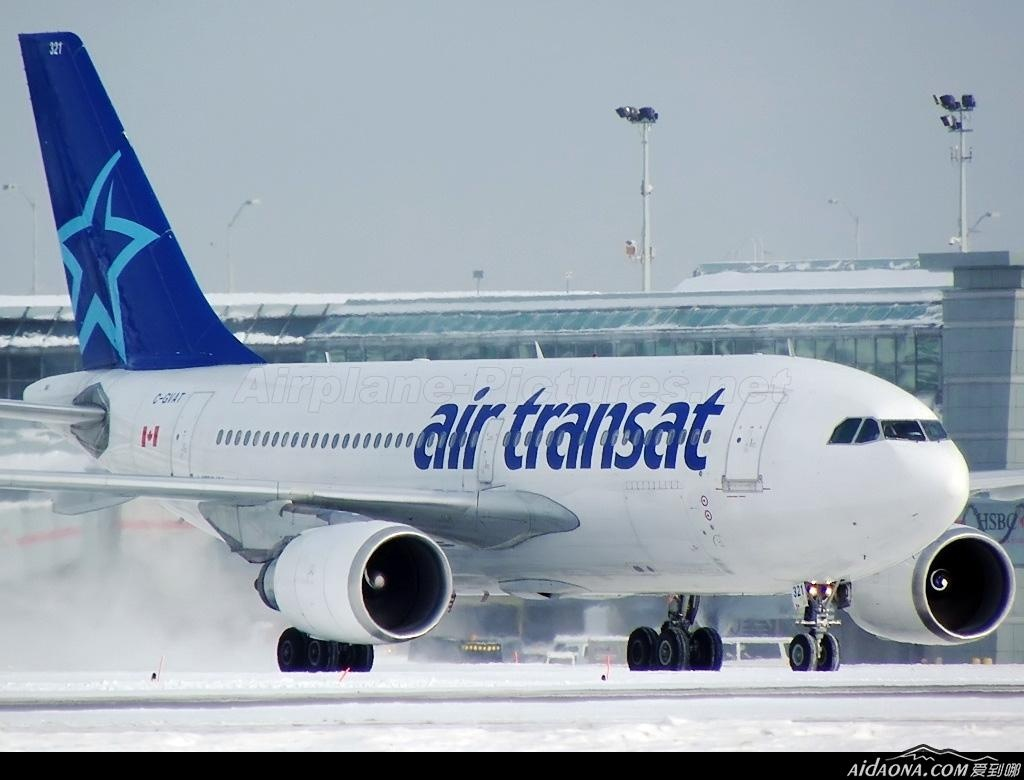airplane: (4, 29, 1013, 678)
